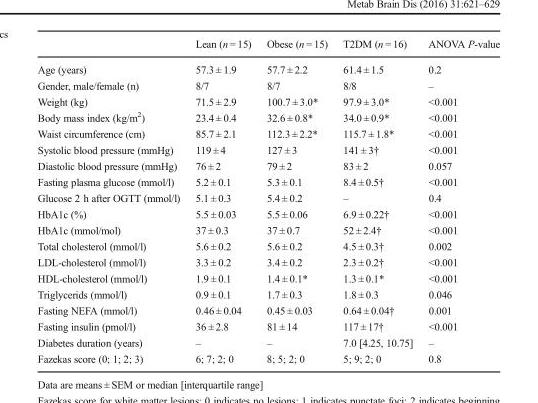table: (36, 37, 499, 363)
table column: (36, 37, 187, 363), (334, 37, 419, 363), (419, 37, 499, 363), (258, 37, 334, 363), (187, 37, 258, 363)
table column header: (36, 37, 499, 56)
table row: (36, 56, 499, 77), (36, 37, 499, 56), (36, 108, 499, 125), (36, 317, 499, 334), (36, 77, 499, 93), (36, 125, 499, 141), (36, 141, 499, 157), (36, 157, 499, 173), (36, 173, 499, 189), (36, 189, 499, 205), (36, 205, 499, 221), (36, 221, 499, 237), (36, 237, 499, 253), (36, 253, 499, 269), (36, 269, 499, 285), (36, 285, 499, 301), (36, 301, 499, 317), (36, 334, 499, 350), (36, 93, 499, 108), (36, 350, 499, 363)
